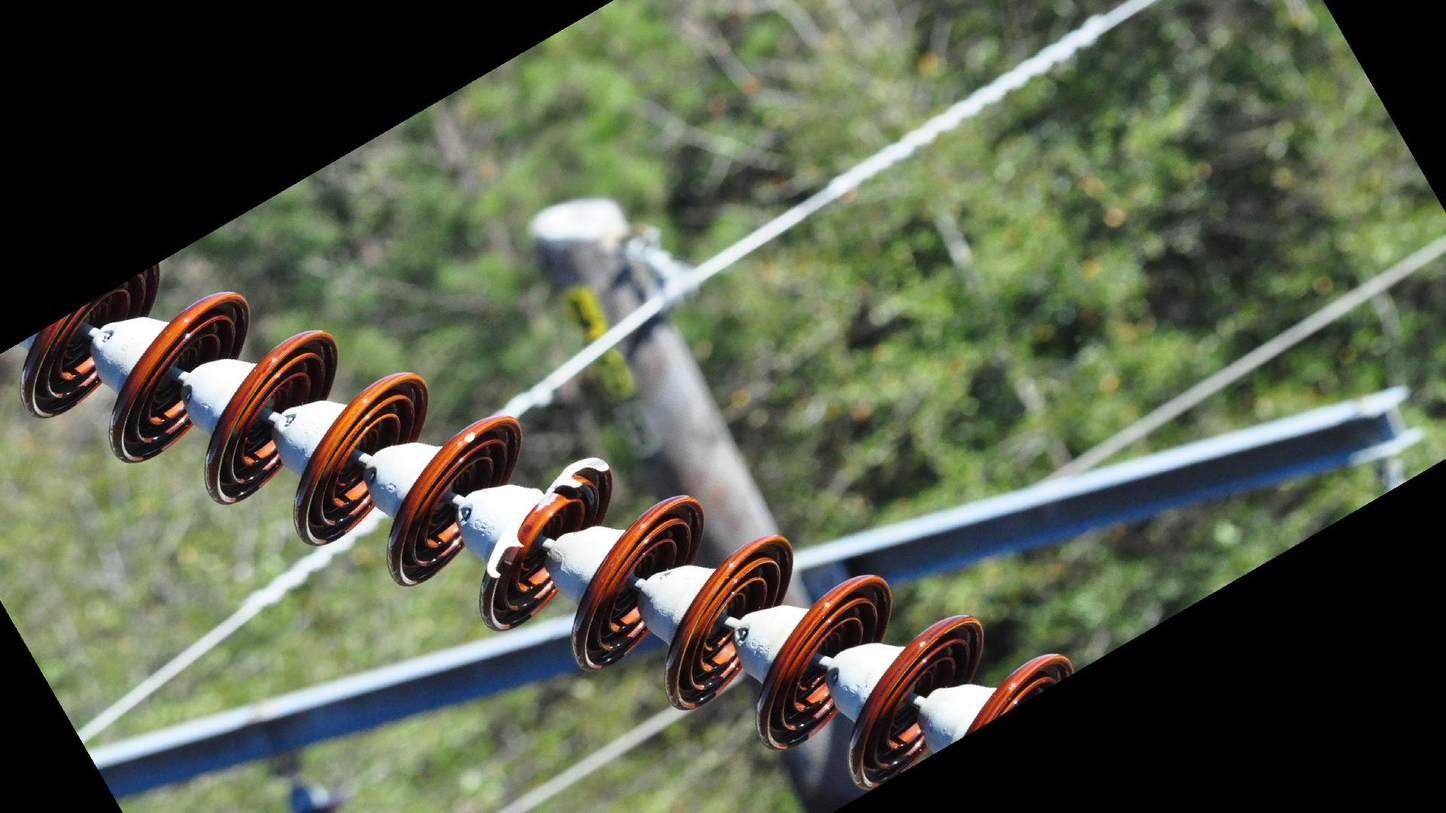insulator: (13, 260, 1081, 799)
insulator_breakage: (482, 454, 616, 587)
